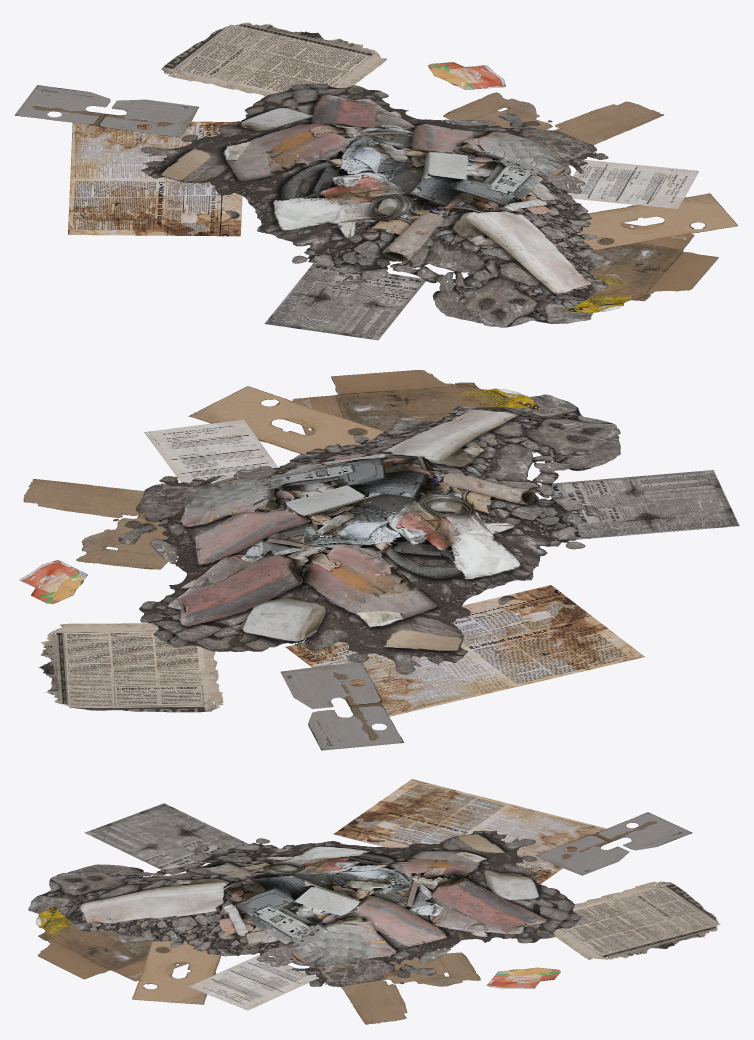
The model's file is SM_debris_02.fbx.
3 renders of one model, top to bottom at view 1: azimuth 30°, elevation 25°; view 2: azimuth 150°, elevation 25°; view 3: azimuth 270°, elevation 25°, orthographic. The views are drawn at different scales.
Visible parts, largest first — view 1: SM_debris_02; view 2: SM_debris_02; view 3: SM_debris_02.
Boxes of the visible parts, left/top/right/bottom form: SM_debris_02: left=14, top=22, right=737, bottom=340; SM_debris_02: left=19, top=370, right=739, bottom=750; SM_debris_02: left=28, top=779, right=720, bottom=1024.
Size of the model in its own units: 406 by 504 by 19.62.
Materials: 1 (1 with a texture image).
